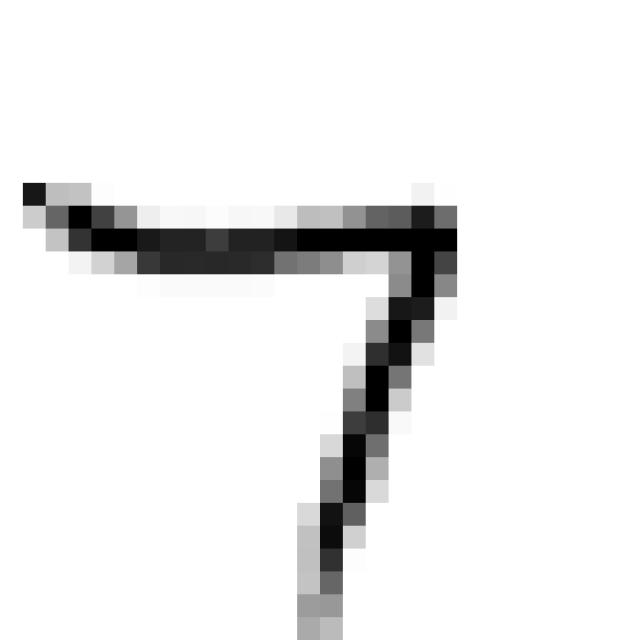6 -six-: (2, 160, 474, 640)
